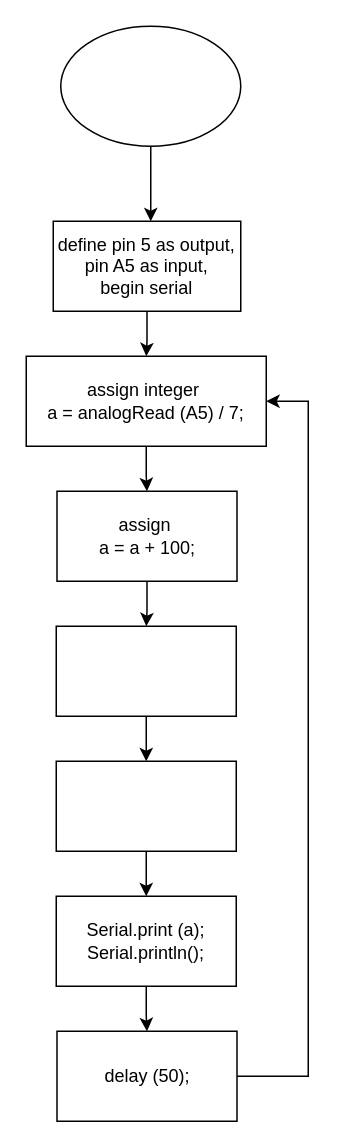
This 347x1148 diagram has some shape labels left out. The centre of each missing label's shape, as x and y in pixels:
"analogWrite 'a' to pin 5" goes at [145,670].
"delay (100);" goes at [145,805].
"Start" goes at [150,85].
